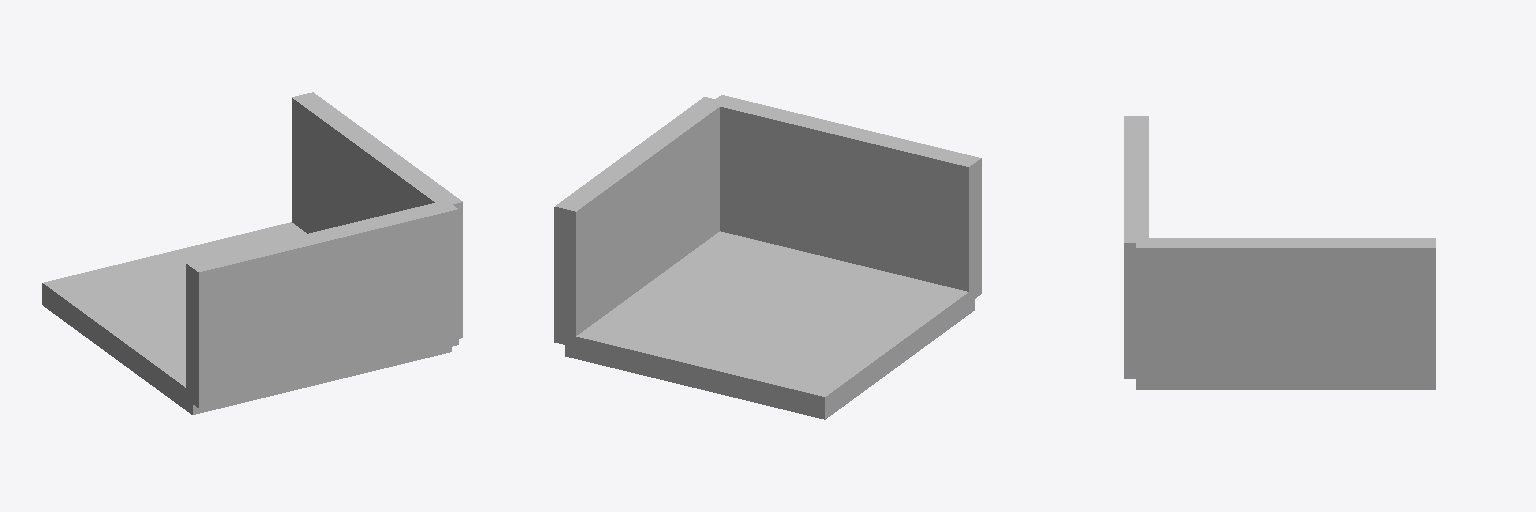
File: tile7.obj
3 renders of one model, left to right at view 1: azimuth 30°, elevation 25°; view 2: azimuth 150°, elevation 25°; view 3: azimuth 270°, elevation 25°, orthographic.
Visible parts, largest first — view 1: Cube.002_Cube.005, Cube_Cube.001, Cube.001_Cube.004; view 2: Cube_Cube.001, Cube.002_Cube.005, Cube.001_Cube.004; view 3: Cube.001_Cube.004, Cube.002_Cube.005, Cube_Cube.001.
Boxes of the visible parts, <box> form: Cube.002_Cube.005: <box>186,203,458,407</box>; Cube_Cube.001: <box>42,222,451,414</box>; Cube.001_Cube.004: <box>292,92,462,338</box>; Cube_Cube.001: <box>565,231,974,419</box>; Cube.002_Cube.005: <box>715,95,981,298</box>; Cube.001_Cube.004: <box>554,97,724,347</box>; Cube.001_Cube.004: <box>1136,238,1435,383</box>; Cube.002_Cube.005: <box>1124,116,1148,378</box>; Cube_Cube.001: <box>1136,384,1435,389</box>.
Bounding box in the file's own units: 12.5 × 6.5 × 12.5.